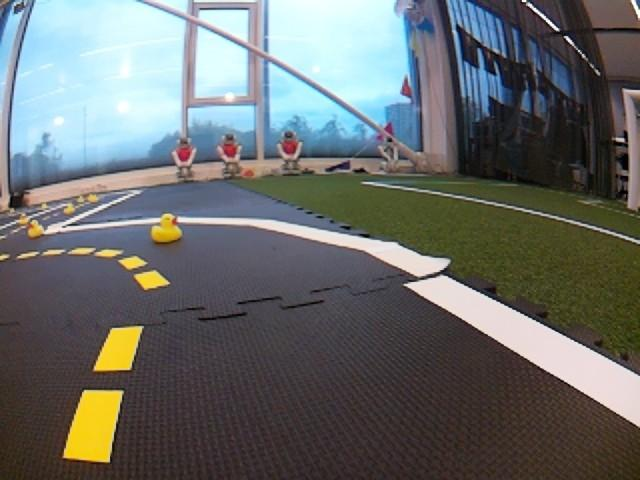Duckies: (151, 213, 182, 242), (27, 220, 44, 238), (63, 203, 75, 214), (19, 214, 29, 225), (91, 194, 99, 203), (87, 194, 95, 202), (77, 196, 85, 203), (41, 202, 47, 209)
